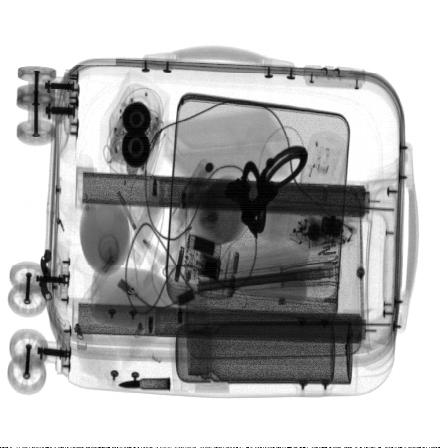Bullet: (116, 378, 171, 392)
HandCuffs: (233, 142, 311, 237)
